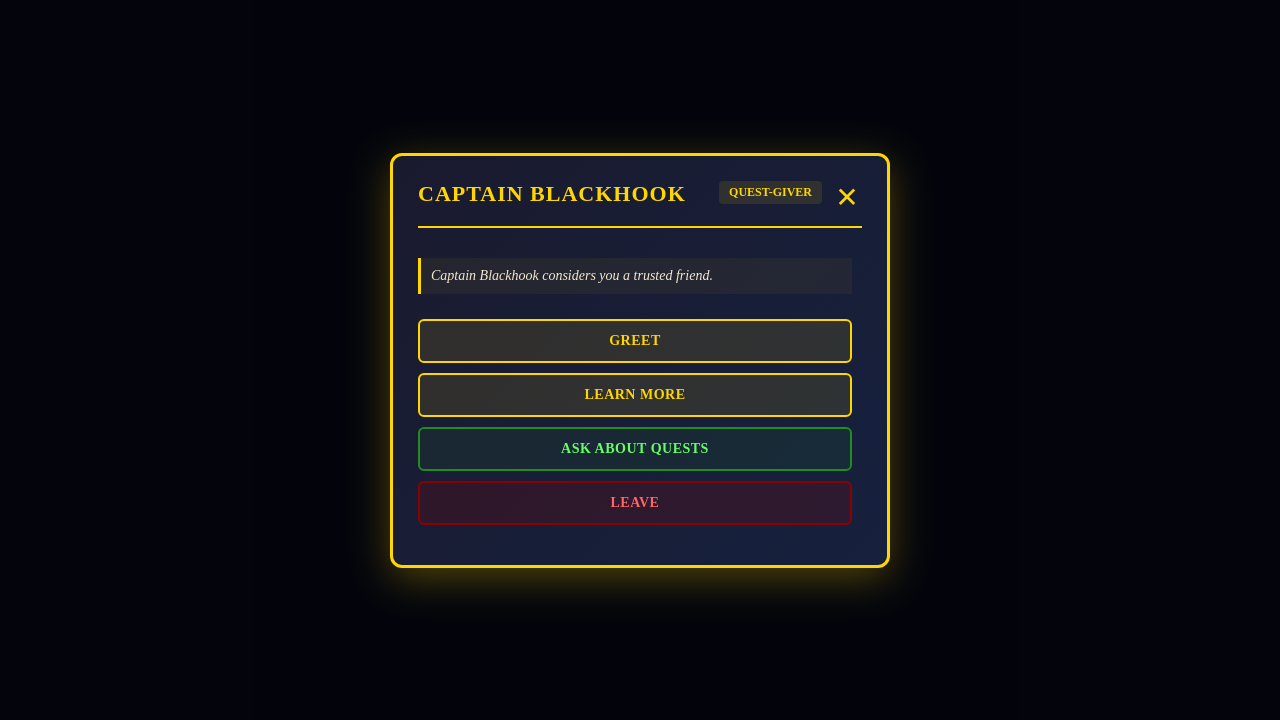
NPC Dialogue Trees › Dialogue is personalized based on reputation
Click the button with class "dialogue-btn" showing "Greet".
click(635, 340)  # box 418,318 -> 852,362
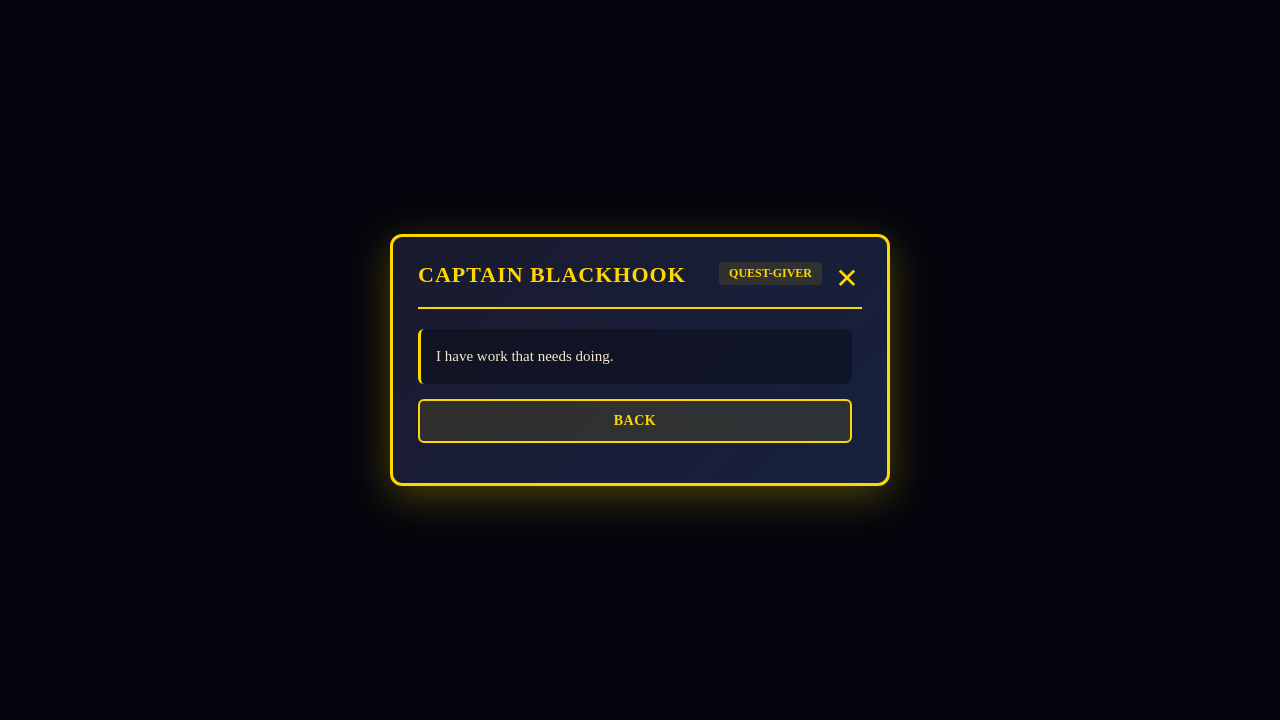
Result: the text "I have work that needs doing." is shown at 418,329 -> 852,384
